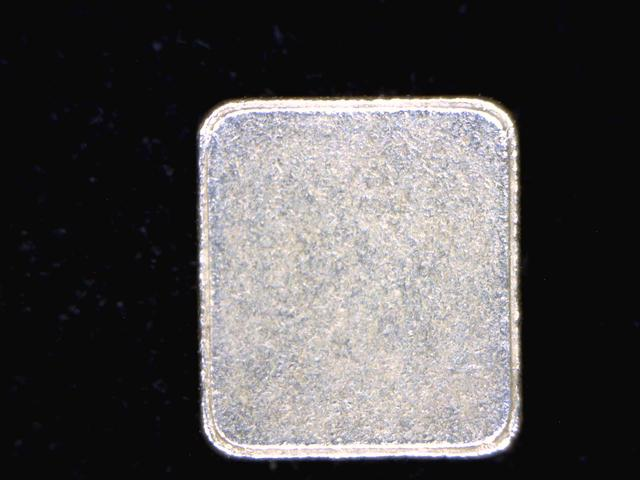nok: (188, 93, 531, 459)
